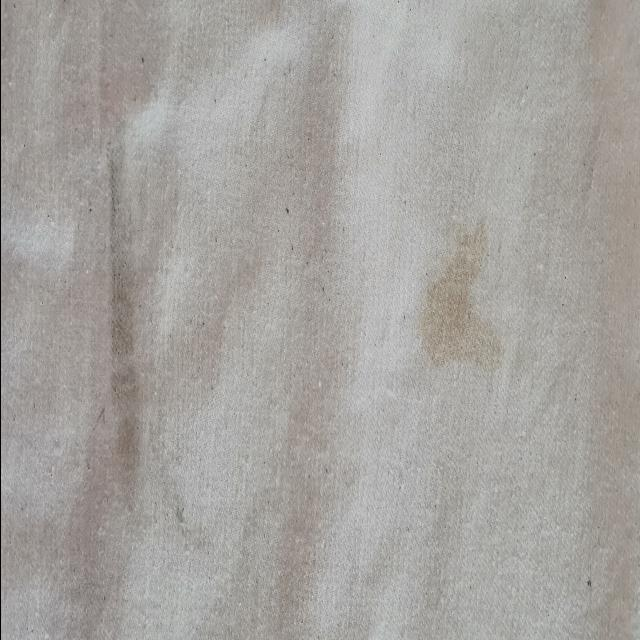taaaches: (100, 100, 150, 530), (420, 215, 504, 382), (168, 488, 215, 558)
